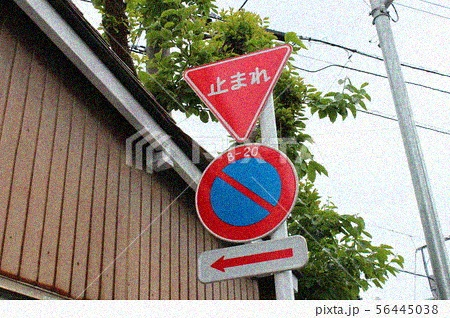Prohibition_sign: (190, 143, 314, 249)
